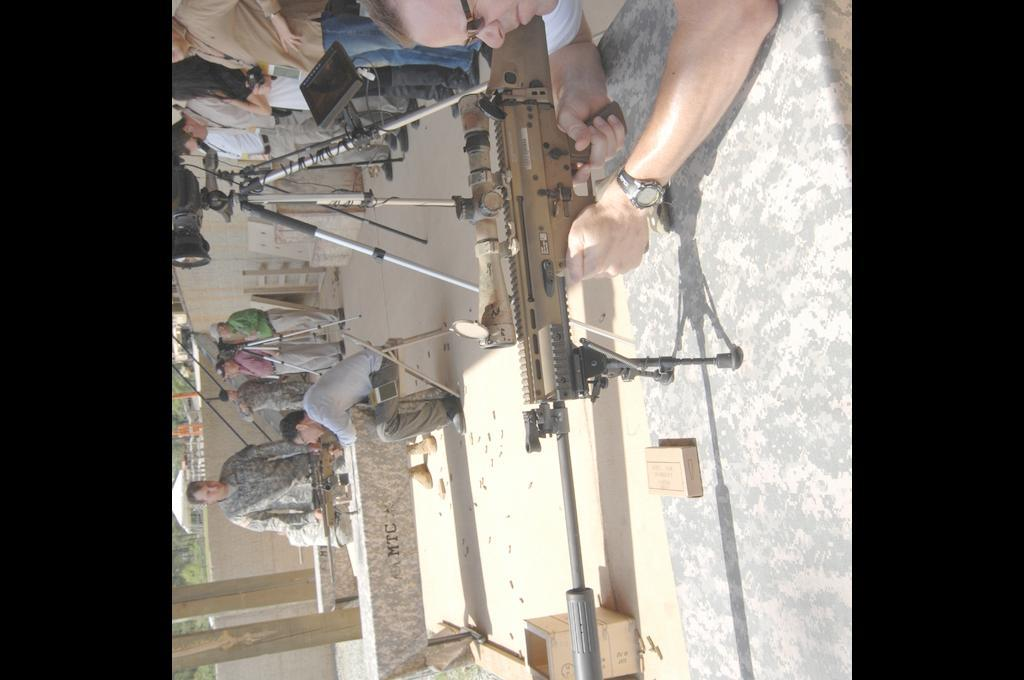gun: (452, 30, 742, 680)
